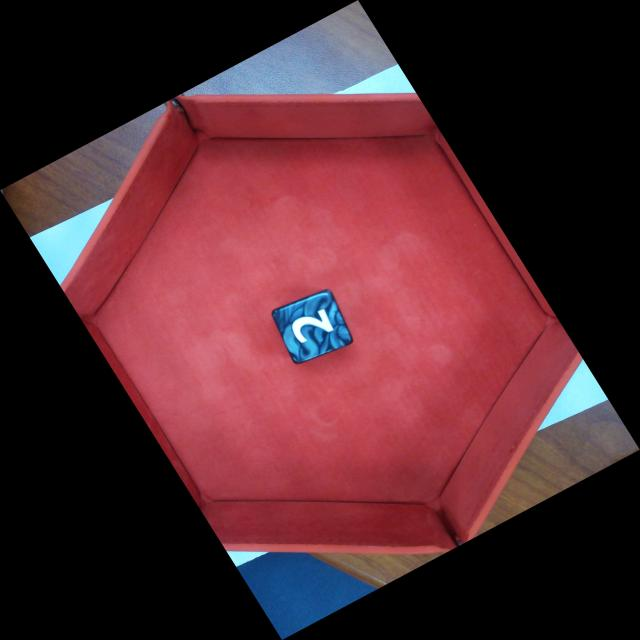dice: (276, 288, 357, 364)
